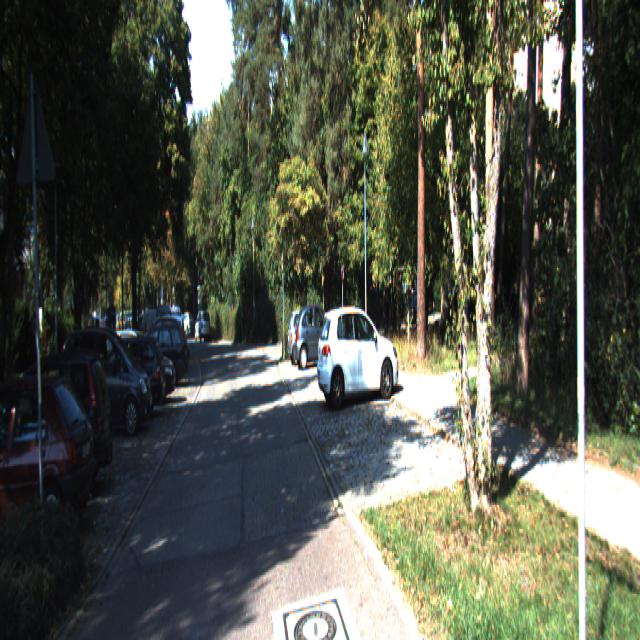Car: (0, 339, 115, 511), (0, 357, 98, 546), (54, 319, 150, 446), (316, 306, 400, 412), (80, 334, 167, 429), (128, 316, 187, 387), (292, 300, 340, 369)
